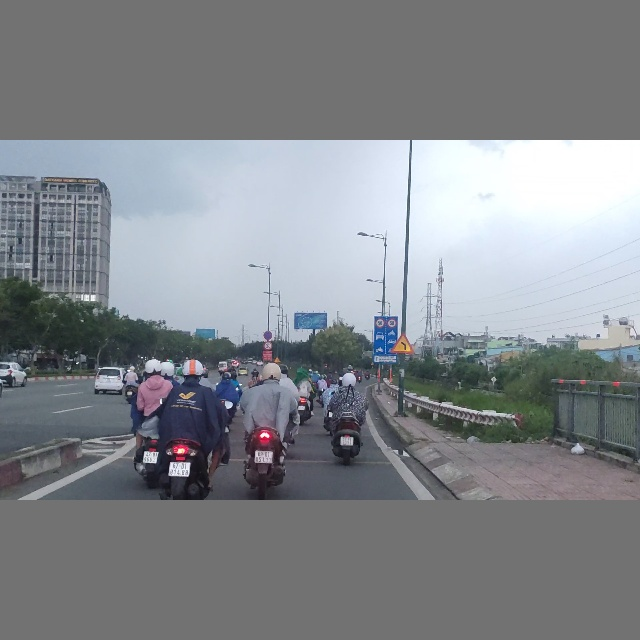P.111: (262, 341, 272, 351)
P.127*50: (374, 317, 385, 329), (386, 317, 397, 328)
P.130: (262, 330, 273, 341)
W.201a: (390, 331, 415, 354), (274, 356, 281, 363)
